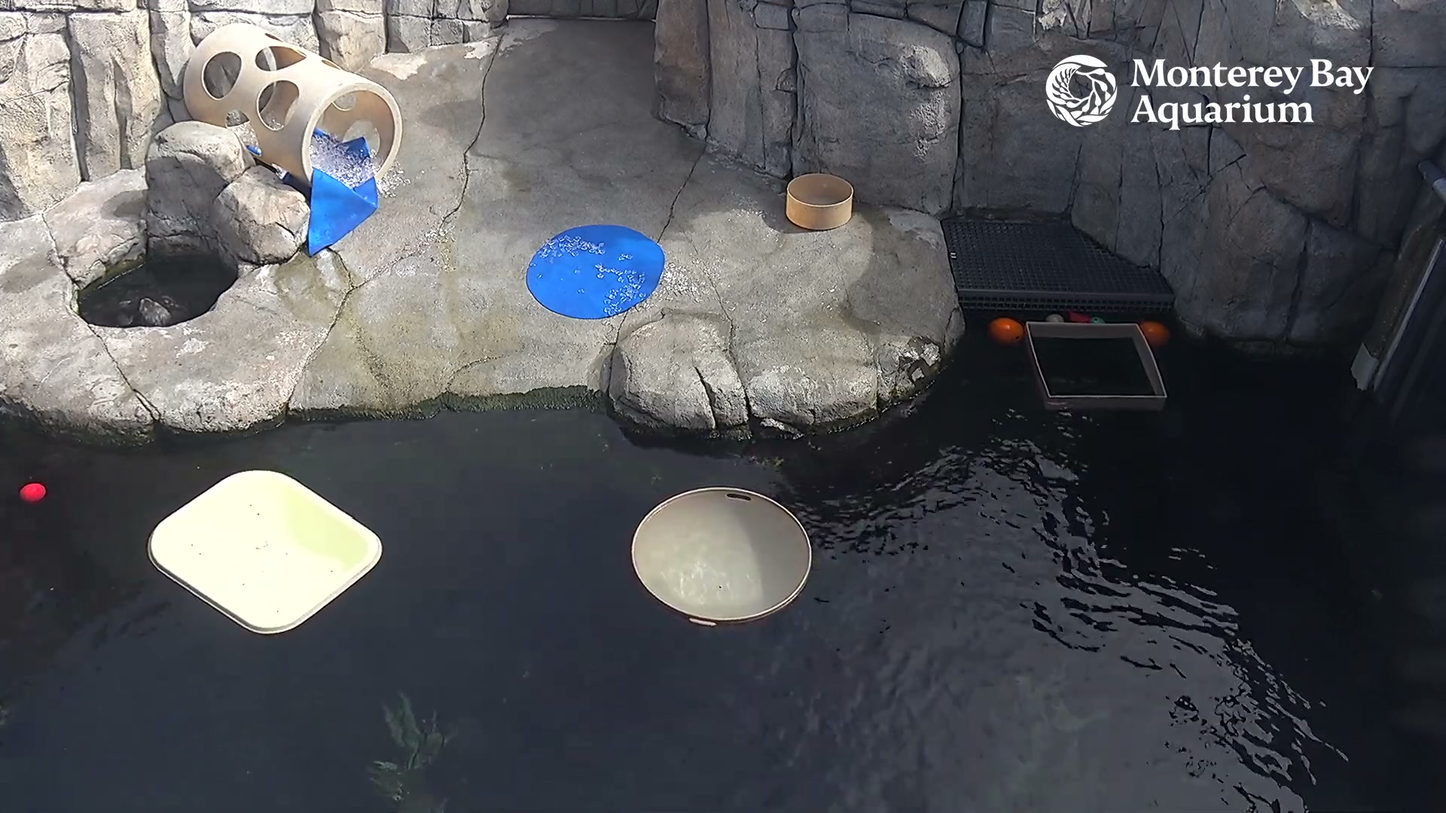Southern Sea Otter: (111, 290, 190, 328)
